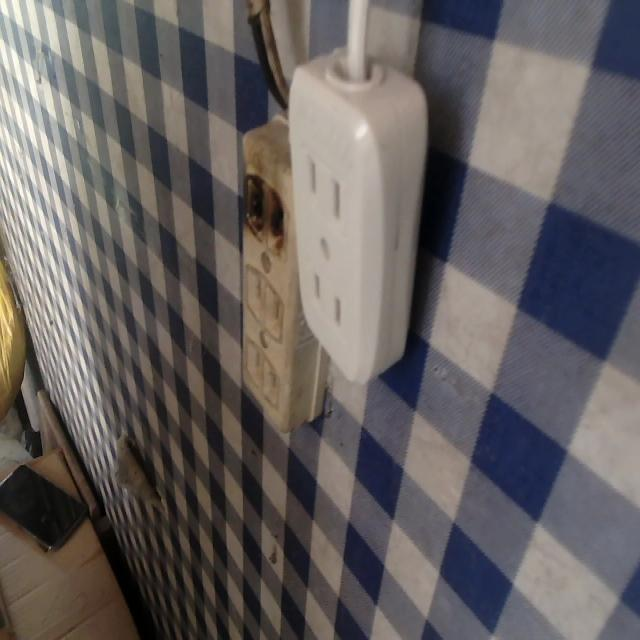-: (233, 158, 288, 242)
